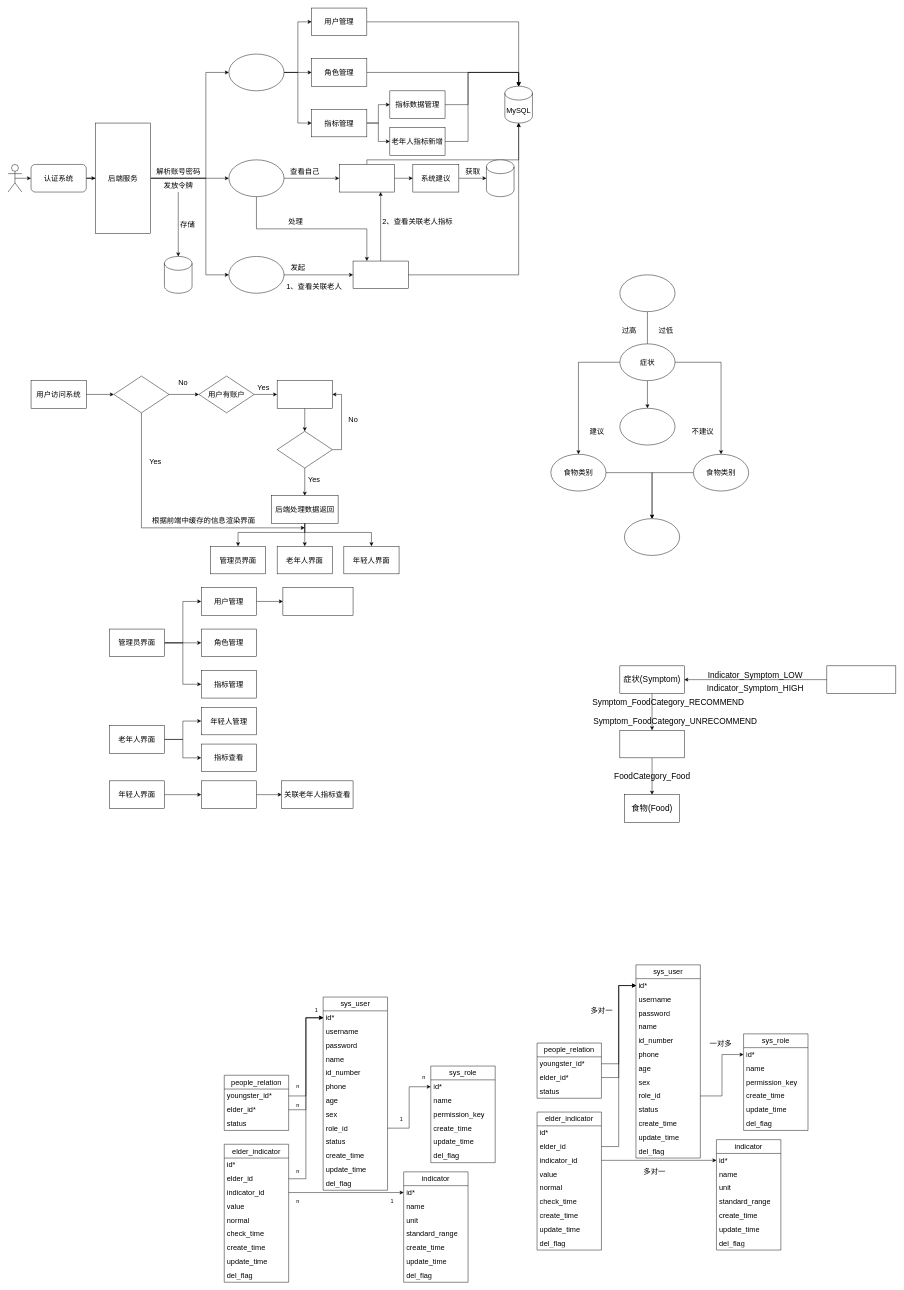
This 904x1290 diagram has some shape labels left out. Each missing label, with the centre of its shape:
Neo4j: point (500, 178)
Redis: point (178, 274)
user: point (15, 178)
年轻人: point (256, 274)
指标: point (647, 293)
指标(Indicator): point (861, 679)
新增老年人指标数据: point (317, 601)
生活建议: point (647, 426)
登录: point (304, 394)
登录成功: point (304, 449)
登录过系统: point (141, 394)
管理员: point (256, 72)
类别(FoodCategory): point (651, 744)
老年人: point (256, 178)
老年人和年轻人关系列表: point (380, 275)
老年人指标查看: point (366, 178)
老年人管理: point (228, 794)
食物: point (652, 536)
